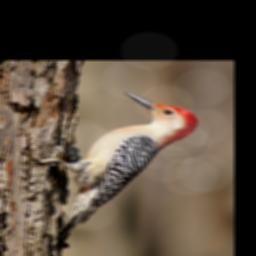Woodpecker: (29, 91, 203, 243)
